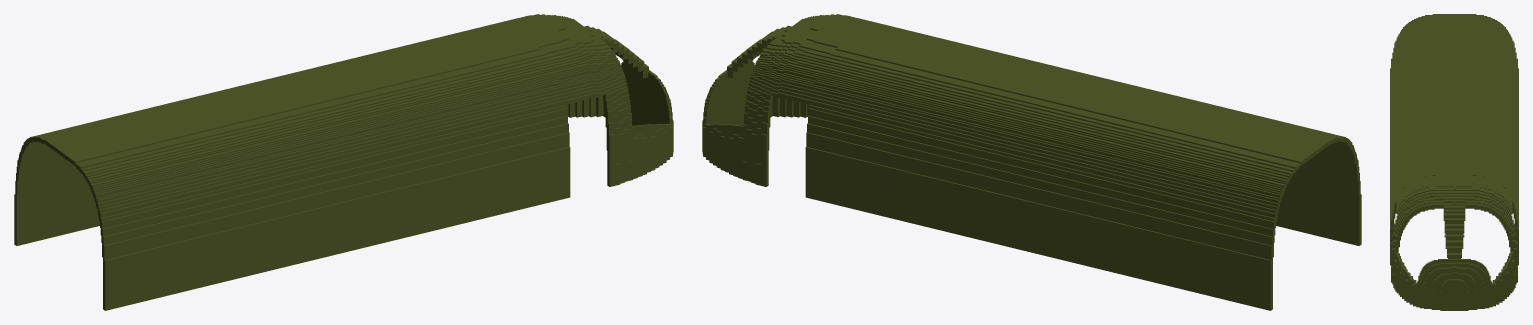
The model's file is heavy_cargo_helicopter_fuselage.glb.
3 views of the same model, side by side, from view 1: azimuth 30°, elevation 25°; view 2: azimuth 150°, elevation 25°; view 3: azimuth 270°, elevation 25° (orthographic). The views are drawn at different scales.
Parts seen in each view (by area): view 1: body:compound; view 2: body:compound; view 3: body:compound.
Boxes of the visible parts, x1,y1,x2,y2 form: body:compound: [14, 14, 673, 310]; body:compound: [702, 14, 1361, 310]; body:compound: [1390, 14, 1518, 310].
Size of the model in its own units: 14 by 2.84 by 3.69.
